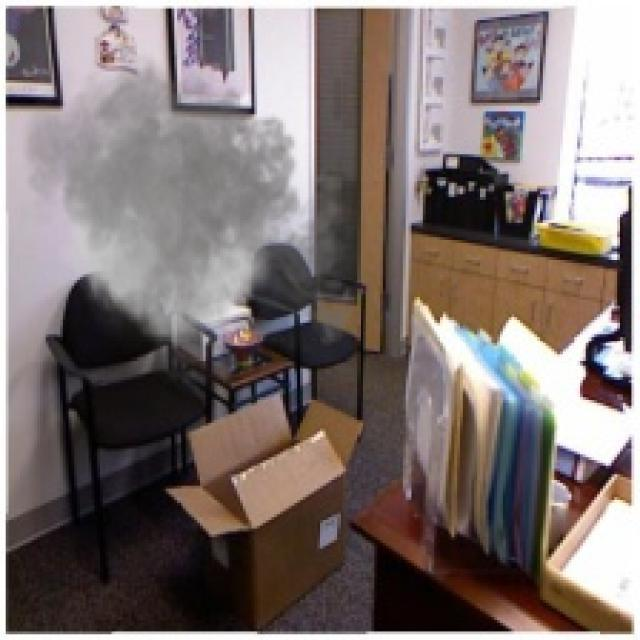Smoke: (8, 40, 366, 406)
